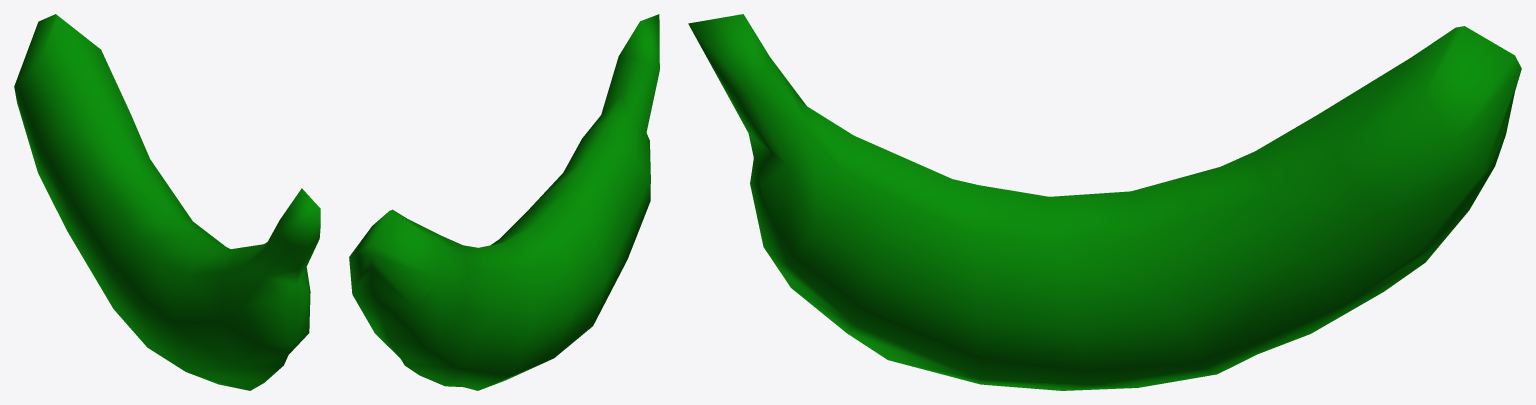
File: banana1_2.dae
3 views of the same model, side by side, from view 1: azimuth 30°, elevation 25°; view 2: azimuth 150°, elevation 25°; view 3: azimuth 270°, elevation 25° (orthographic). The views are drawn at different scales.
Visible parts, largest first — view 1: banana1; view 2: banana1; view 3: banana1.
Boxes of the visible parts, x1=… form: banana1: x1=14, y1=14, x2=320, y2=390; banana1: x1=349, y1=14, x2=659, y2=390; banana1: x1=688, y1=14, x2=1521, y2=390.
Size of the model in its own units: 0.0557 by 0.2948 by 0.1476.
